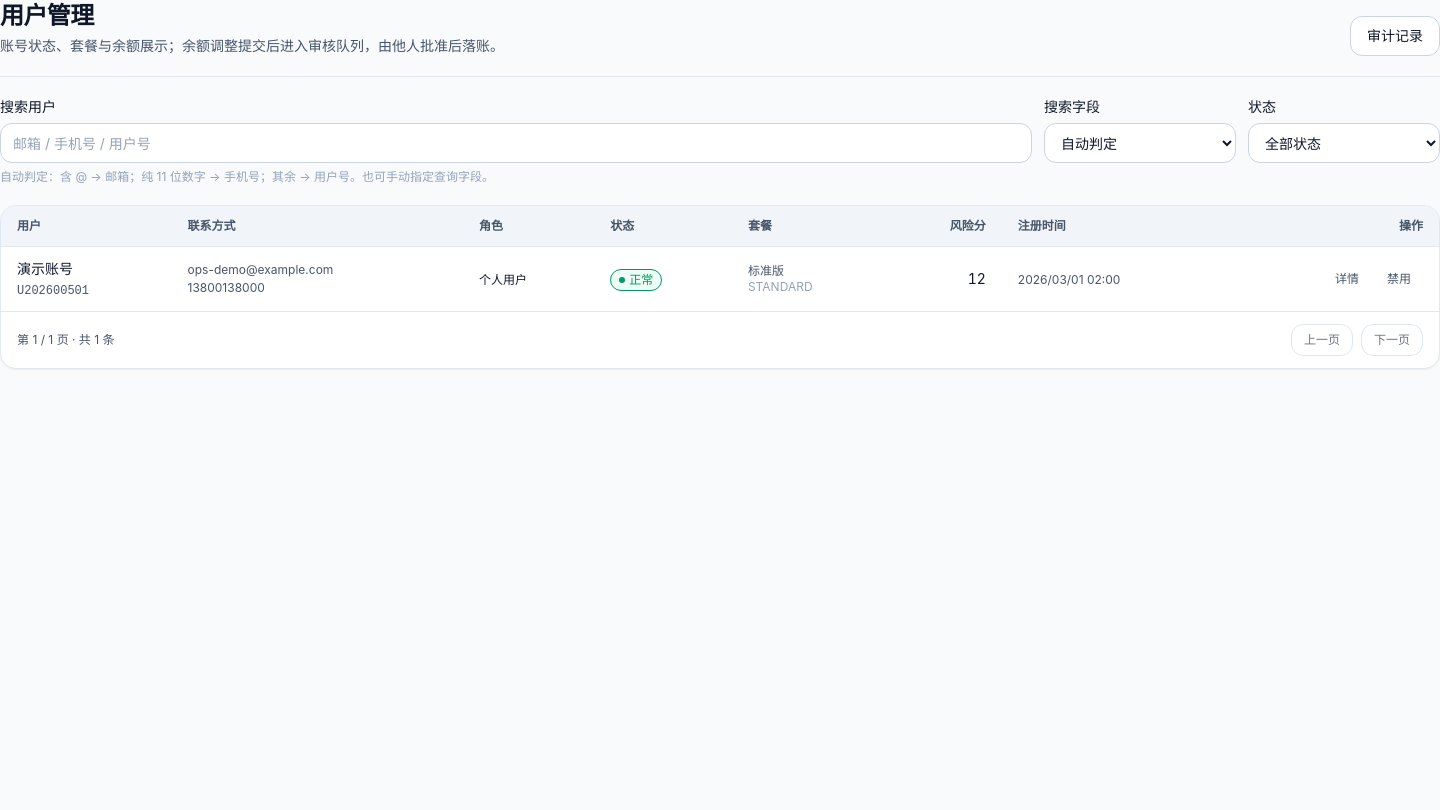
Test: UsersPage › UsersPage：余额调整可提交并展示最近一张调整单
Expected: the text "演示账号" is shown, [17,260,73,277]
Click the button "详情". click: (1347, 279)
box: [1323,263,1371,295]
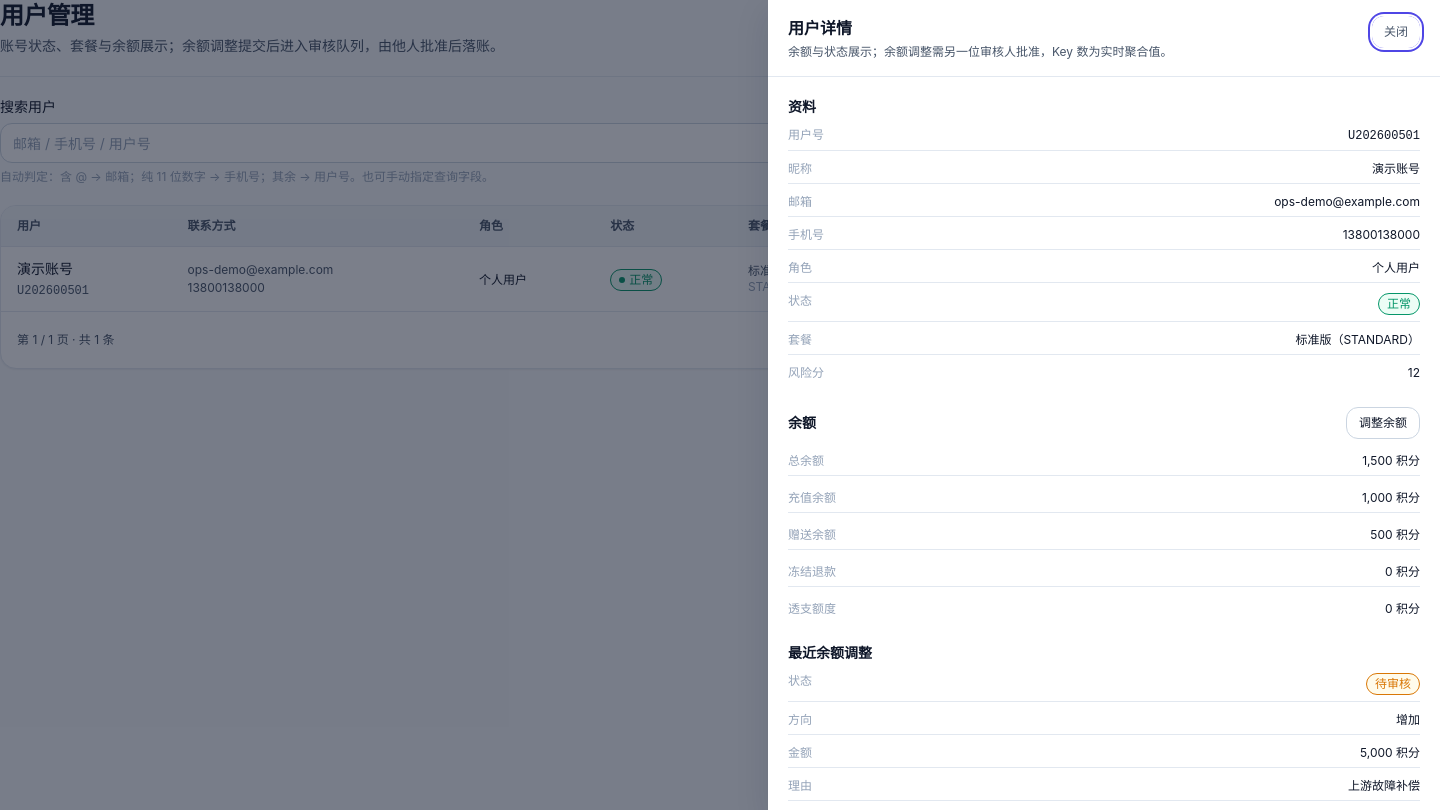
Result: the text "总余额" is shown at [788,453,824,469]
Result: the button "调整余额" is enabled at [1346,407,1420,439]
Result: the text "待审核" is shown at [1366,673,1420,695]
